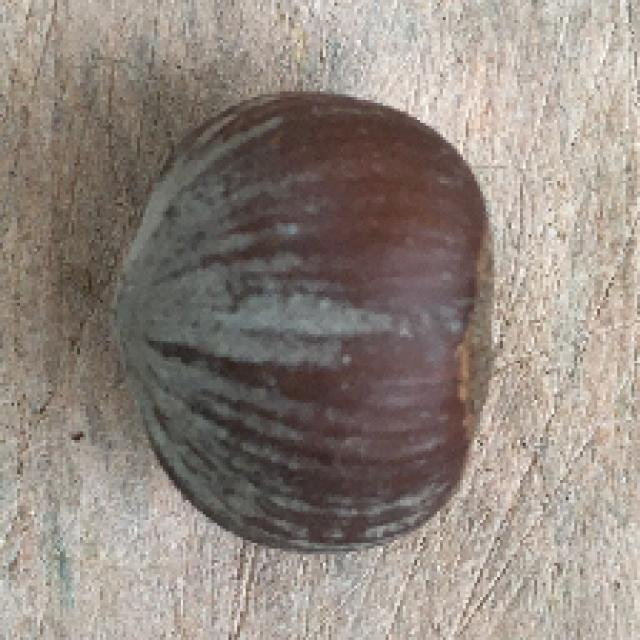damagedHazelnut: (110, 90, 495, 548)
